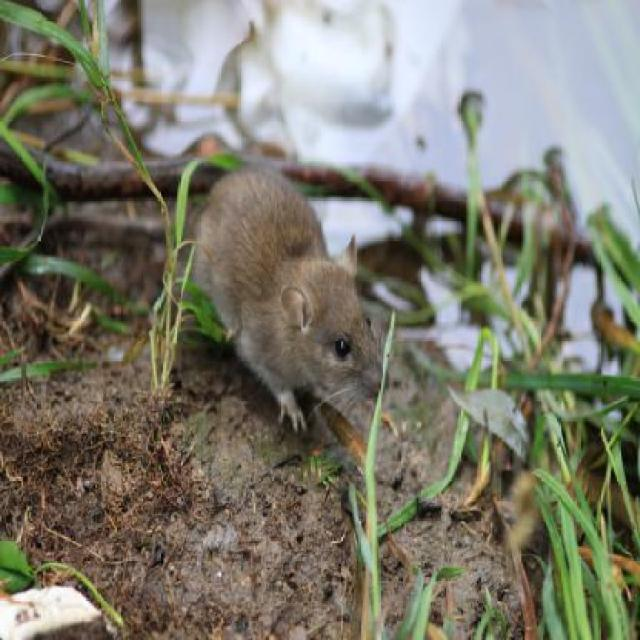Mouse: (182, 154, 392, 440)
